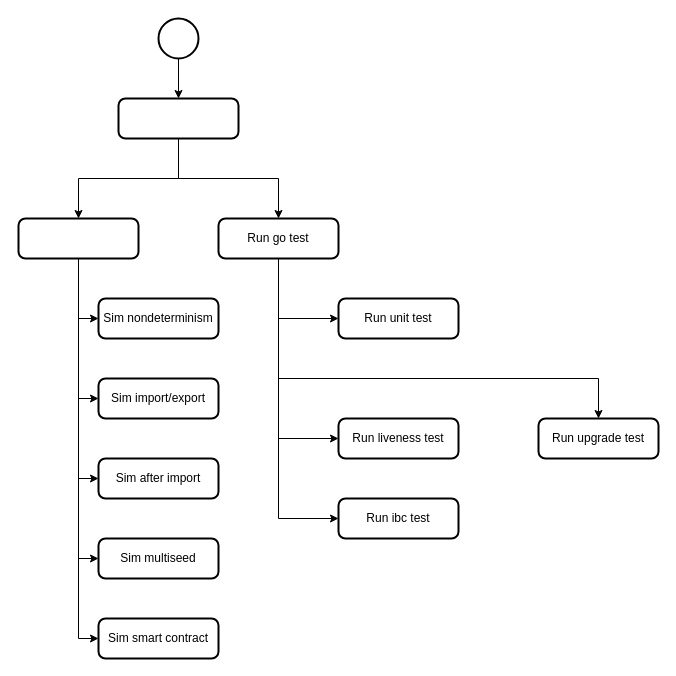
This 676x676 diagram has some shape labels left out. Here are the shapes that lost their labels. From the top down, the centre of each, then its label:
the point at 178,118: Detect new pr
the point at 78,238: Run build
